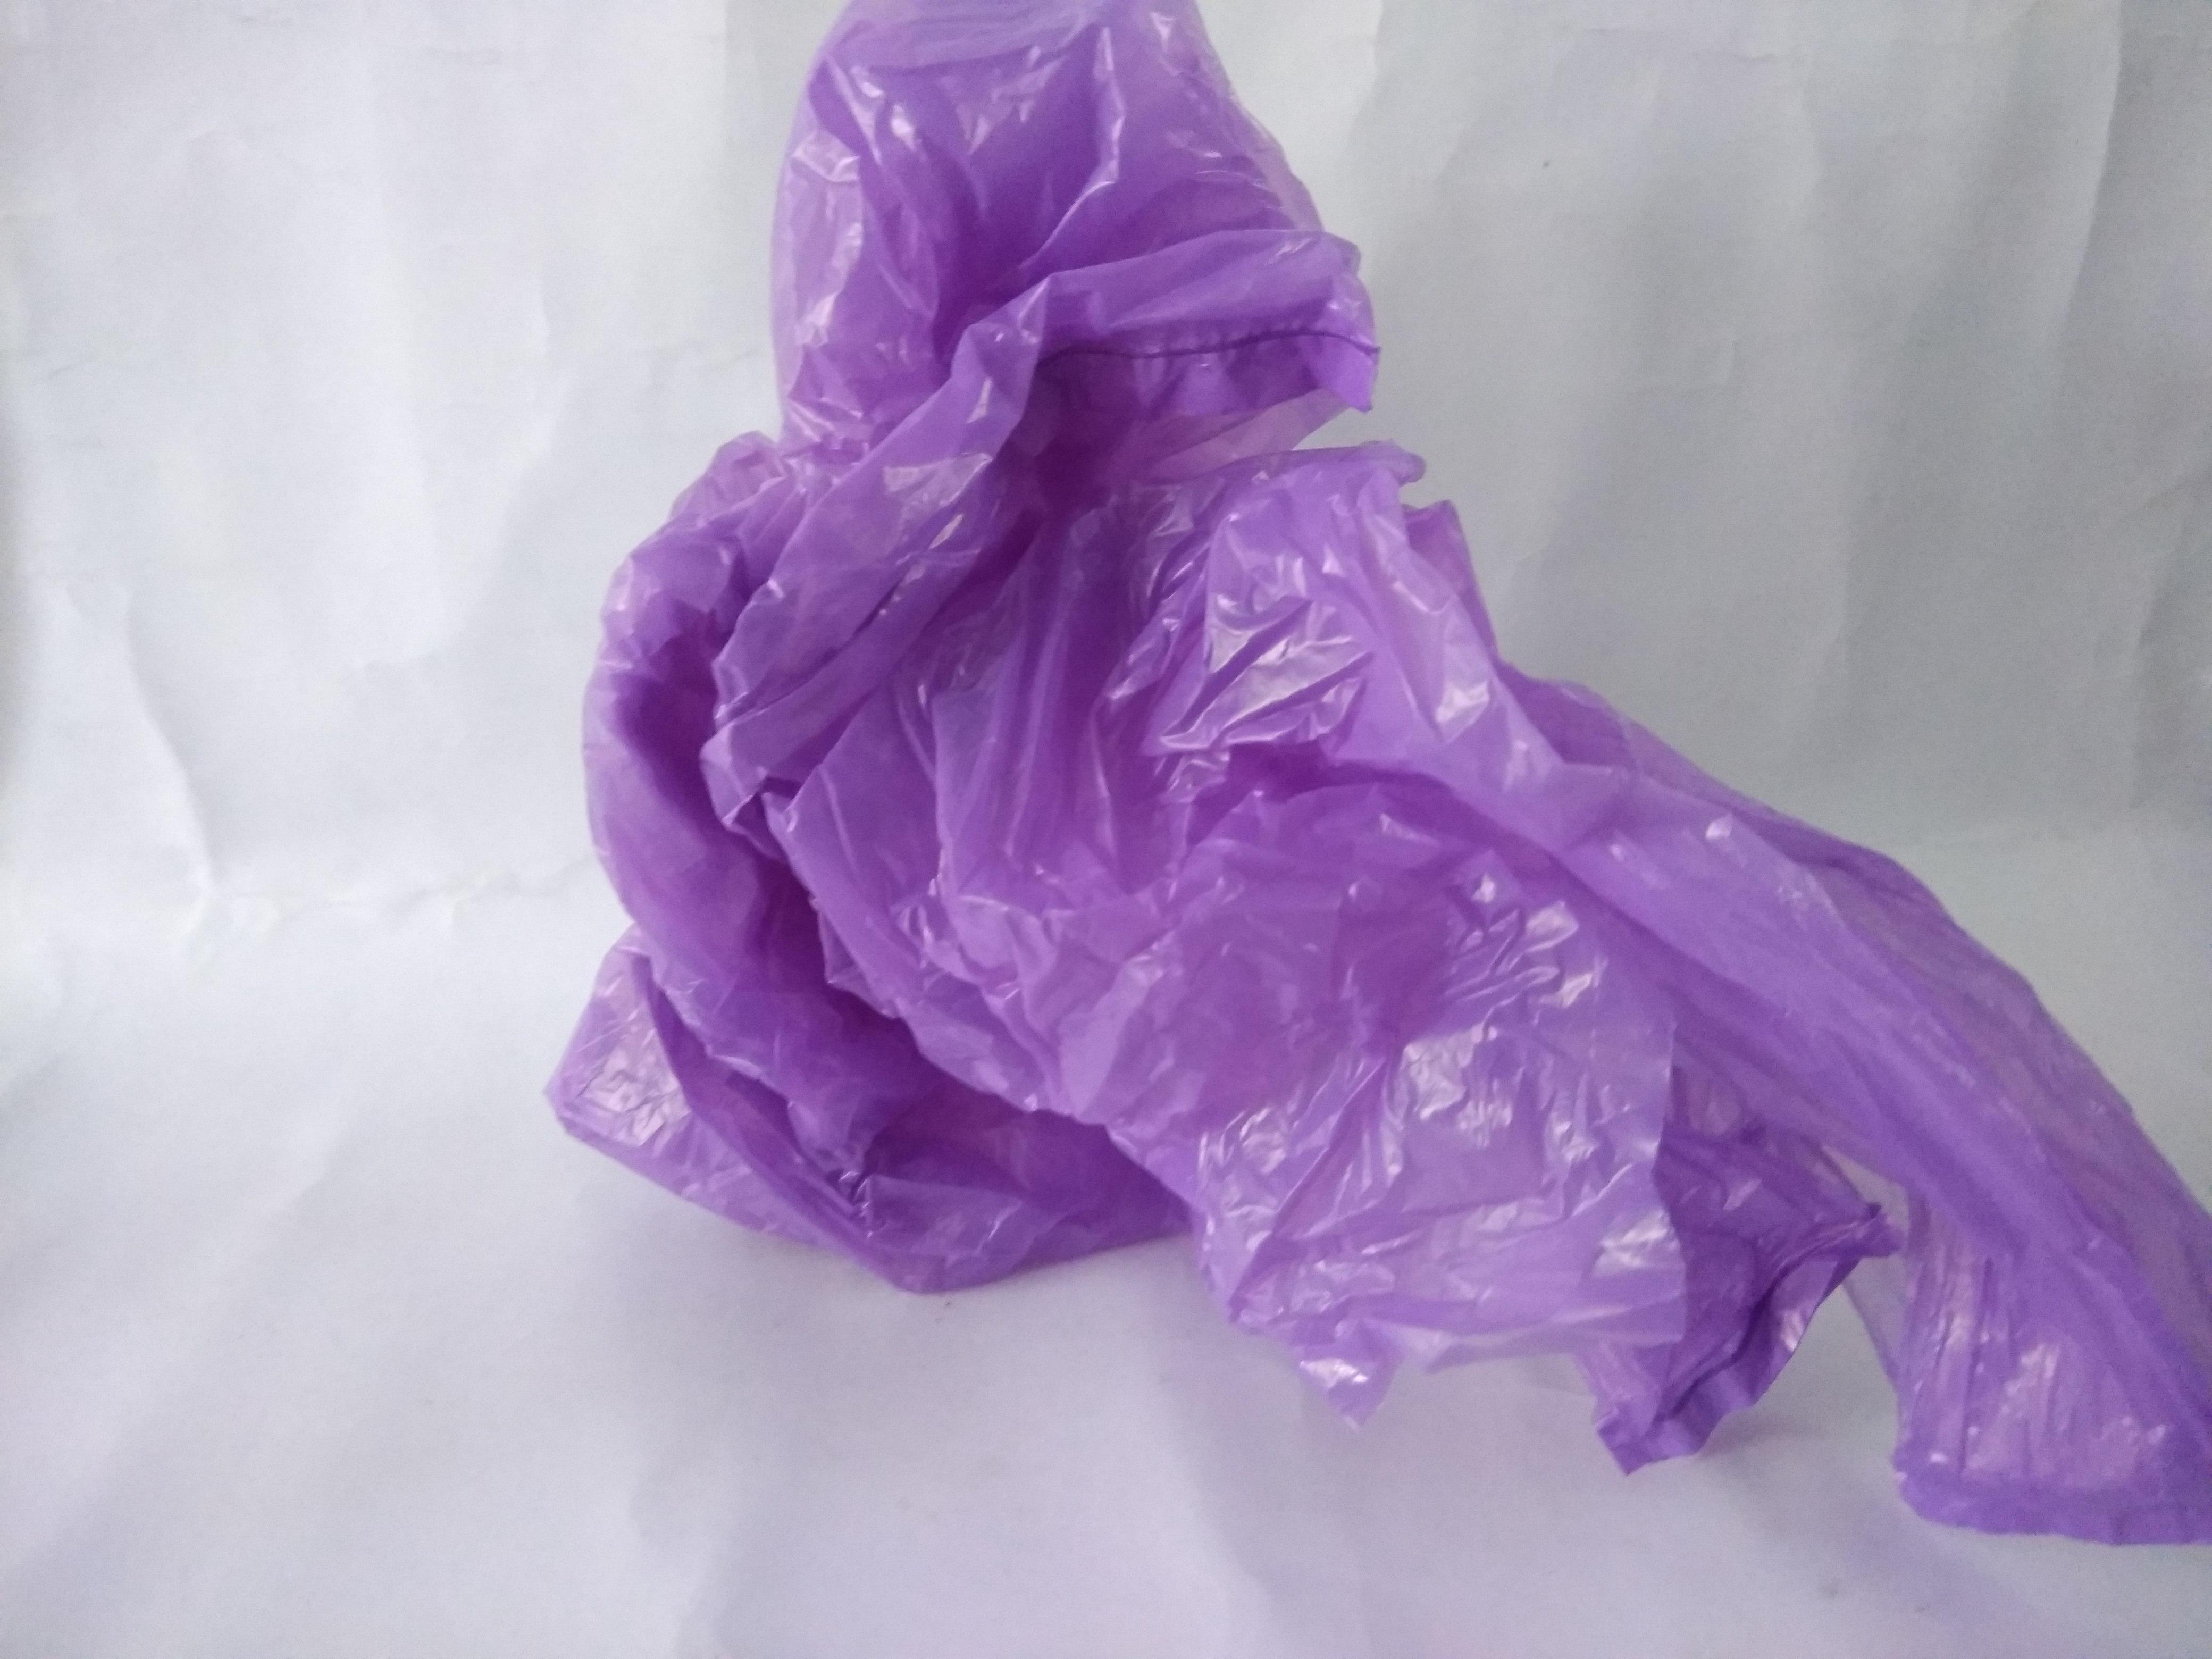LDPE: (331, 0, 2212, 1659)
